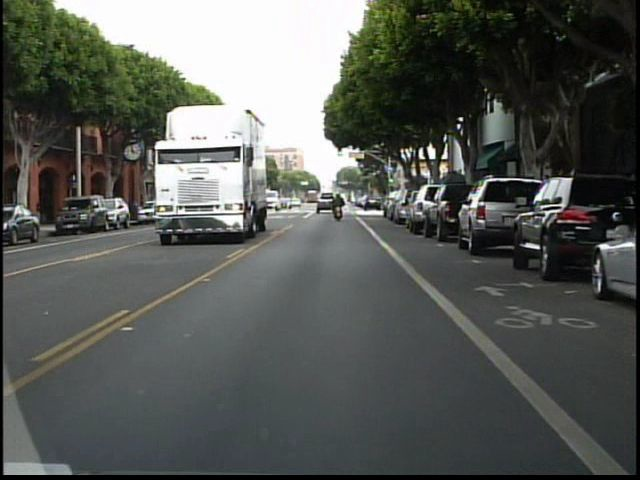person: (331, 192, 345, 223)
